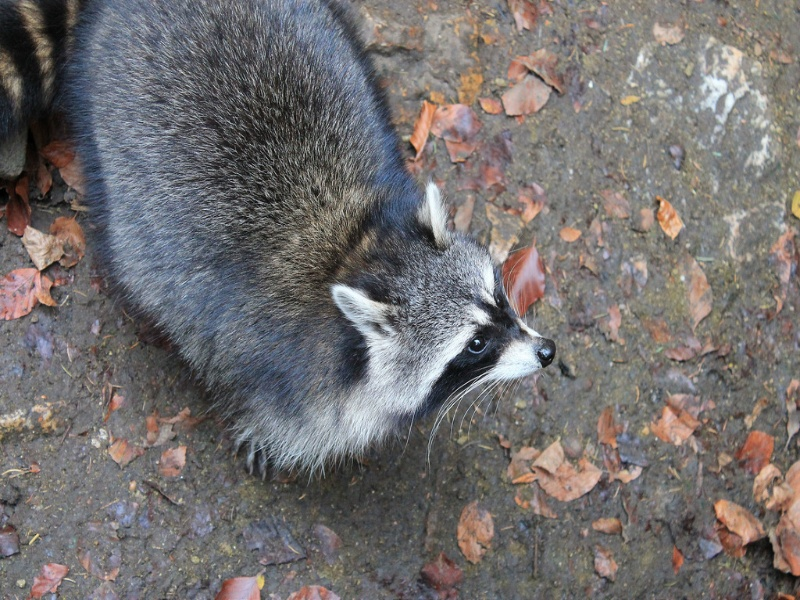raccoon: (1, 4, 562, 498)
